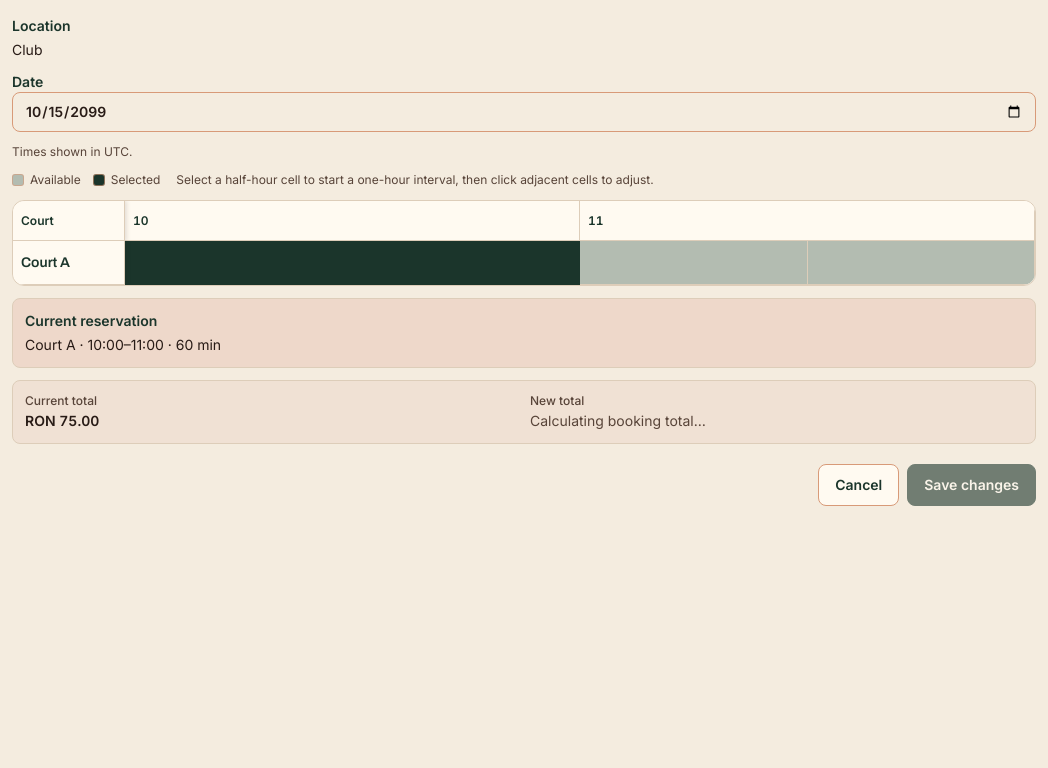
invalidates price acknowledgement when the selected interval changes
Expected: the text "Current reservation" is shown, [25,312,157,329]
Click the button named "Court A 2099-10-15 11:00–11:30" at (694, 262), box [580,241,808,284]
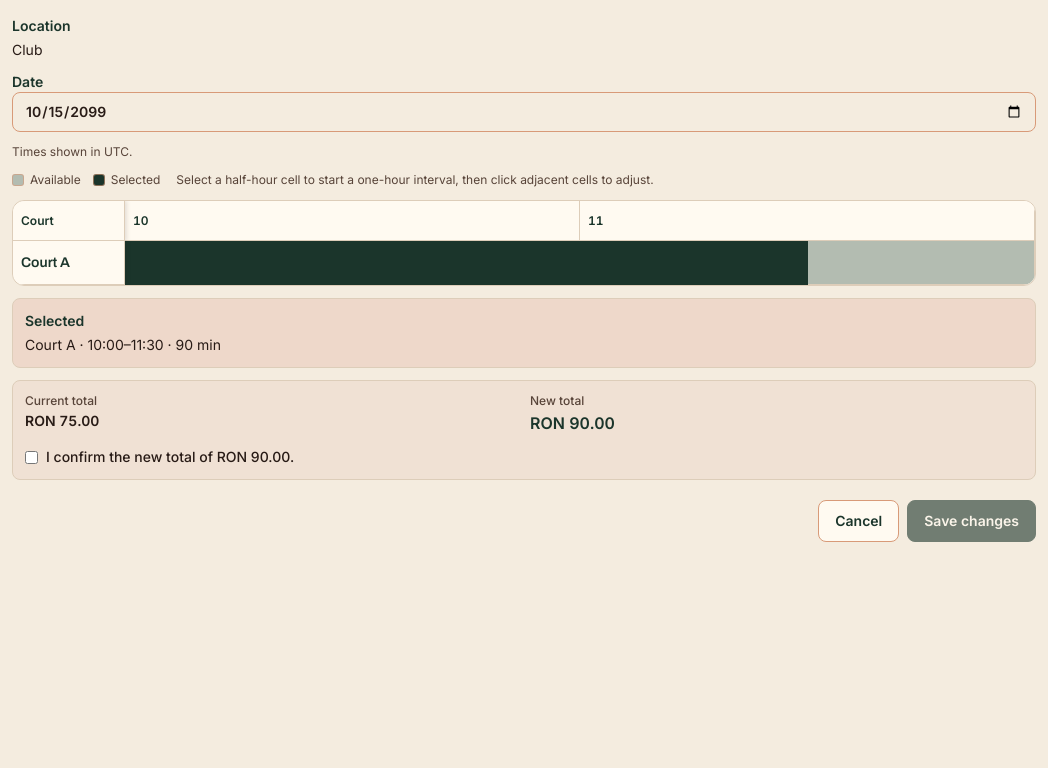
Expected: the checkbox is shown
Click the checkbox at (32, 457), box [25,450,38,464]
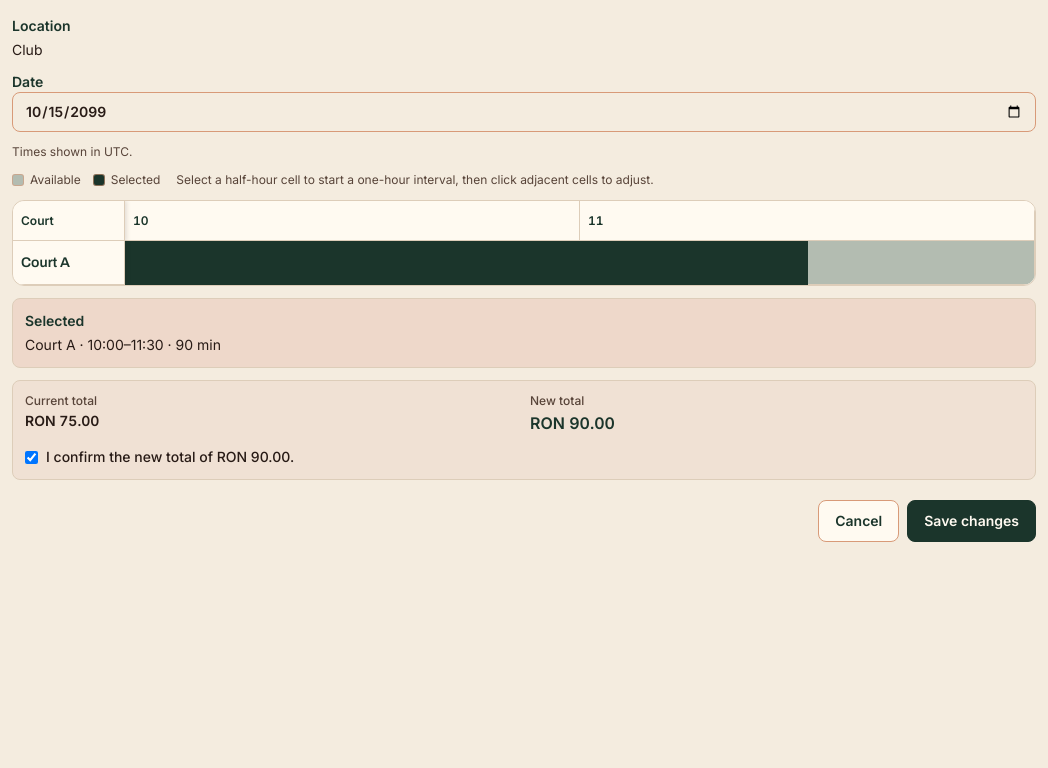
Expected: the button "Save changes" is enabled, [907,500,1036,542]
Click the button named "Court A 2099-10-15 11:30–12:00" at (921, 262), box [808,241,1035,284]
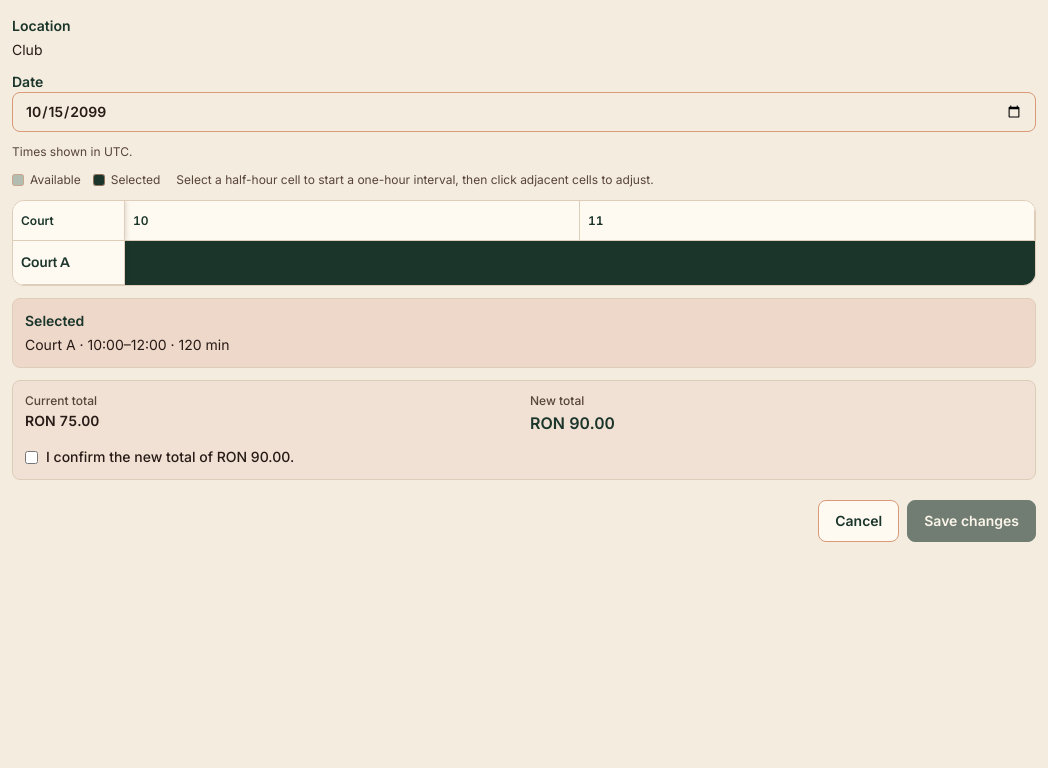
Expected: the checkbox is not checked
Expected: the button "Save changes" is disabled, [907,500,1036,542]
Click the checkbox at (32, 457), box [25,450,38,464]
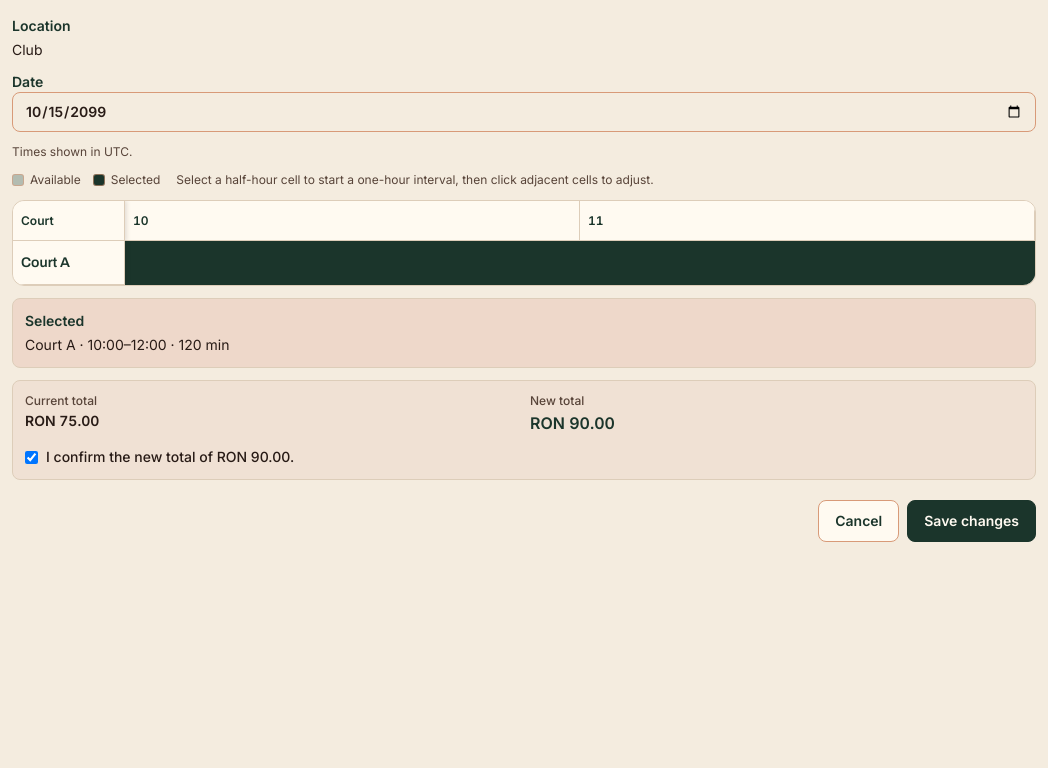
Expected: the button "Save changes" is enabled, [907,500,1036,542]
